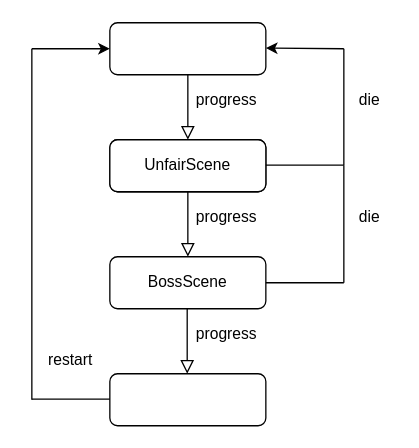
Some shapes in this 419 by 448 pixel diagram are drawn without their labels. The centre of each missing label's shape, as x and y in pixels:
"EndScene" goes at point 187,399.
"StartScene" goes at point 187,48.
